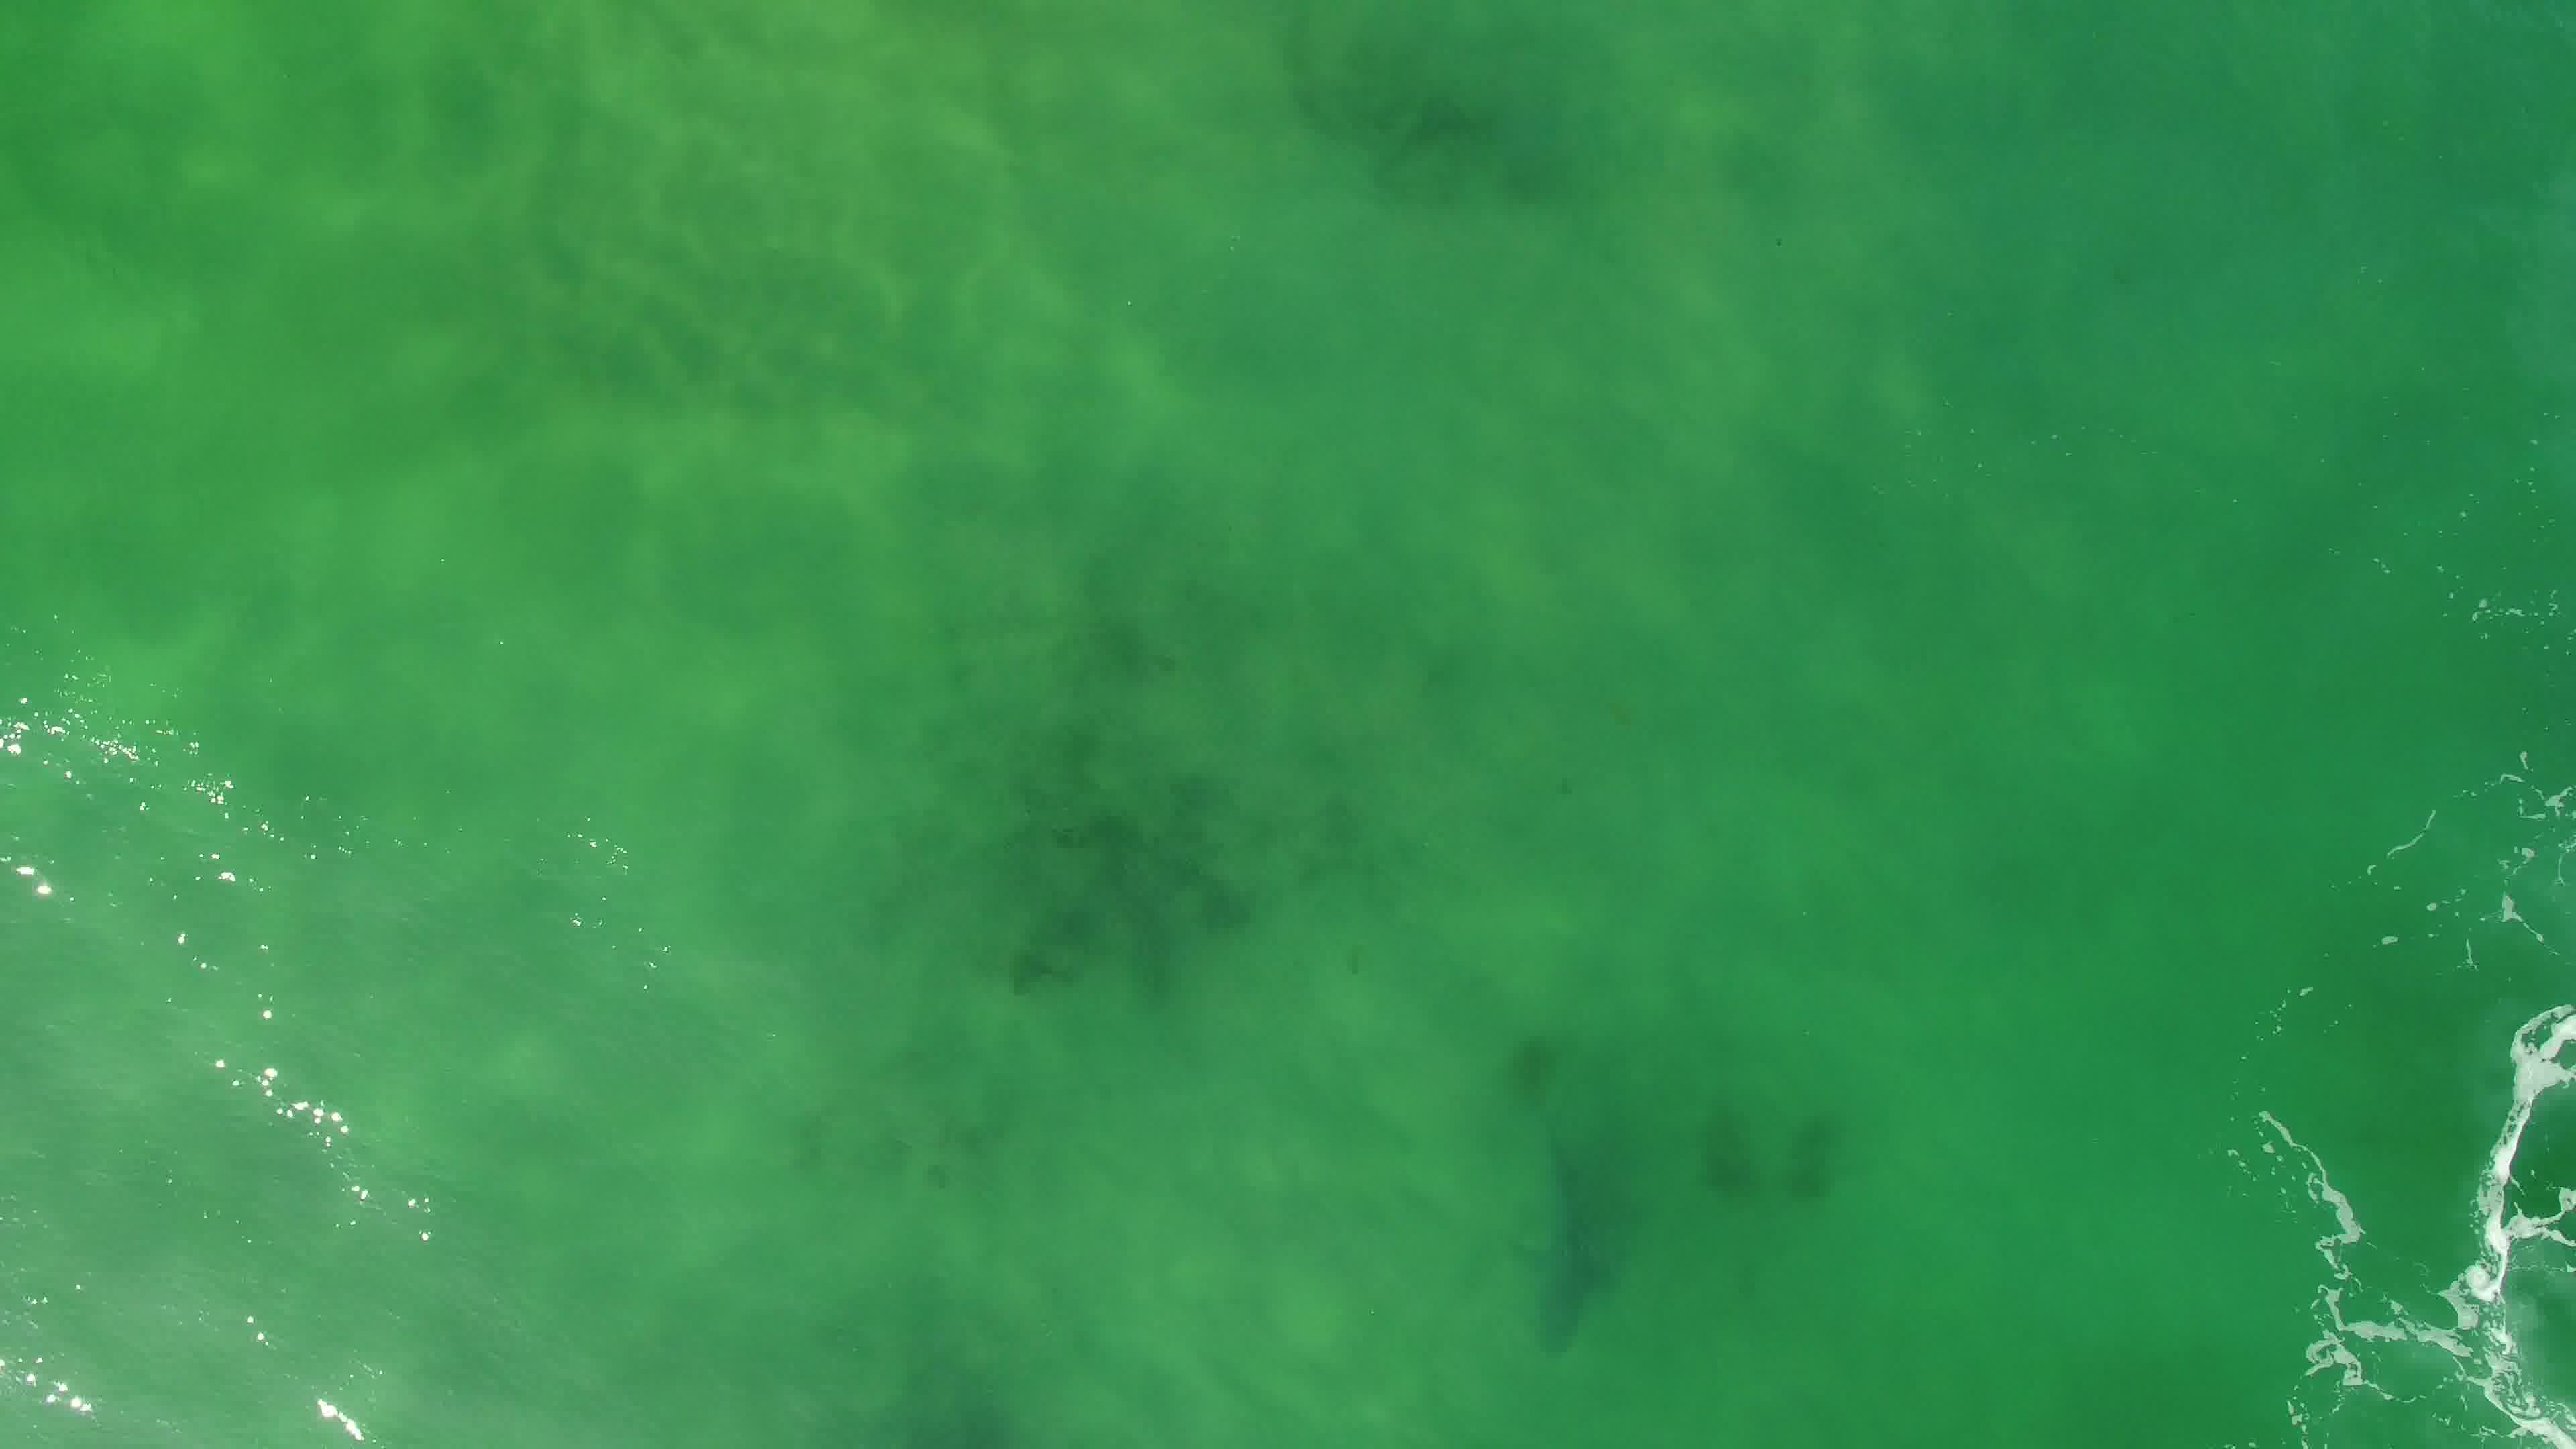shark: (1488, 1113, 1626, 1364)
